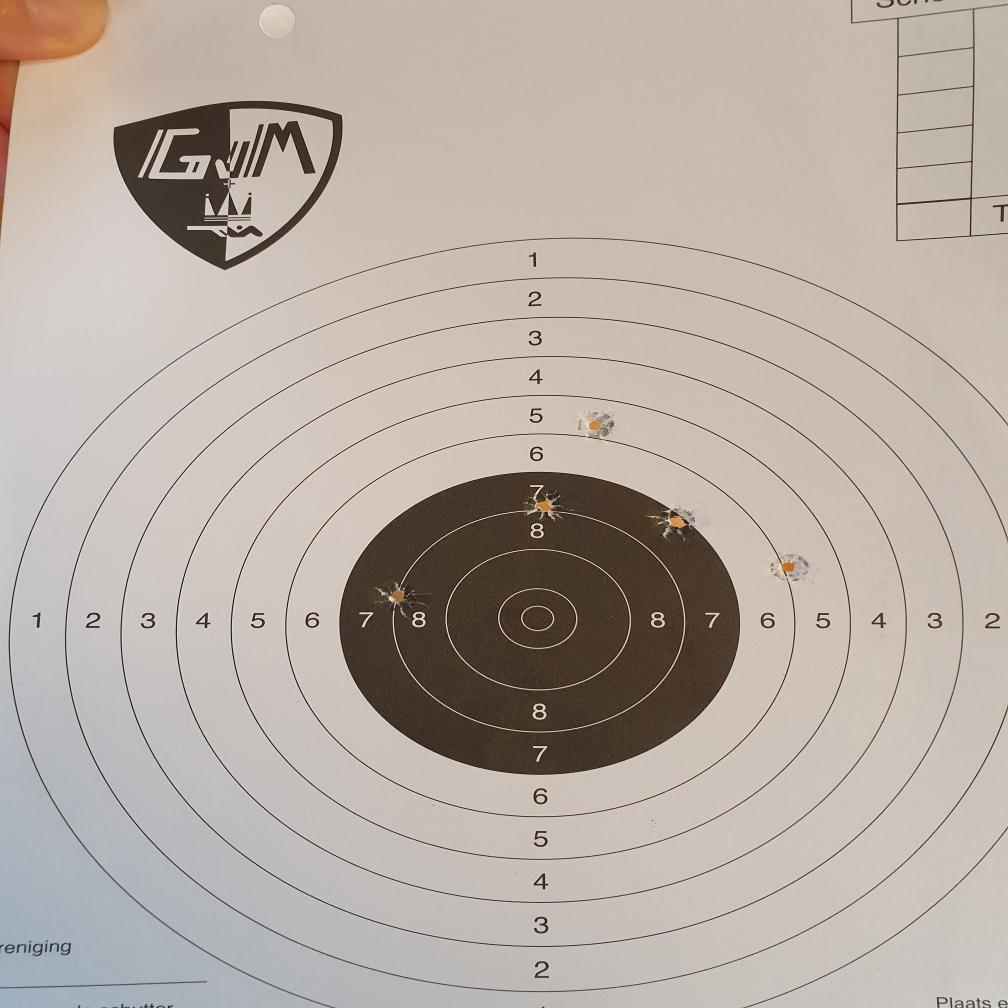6: (764, 540, 820, 584), (574, 406, 628, 444)
7: (654, 498, 702, 542)
8: (518, 488, 575, 526), (376, 576, 431, 614)
Target: (6, 236, 1007, 1008)
black_contour: (339, 471, 742, 776)
